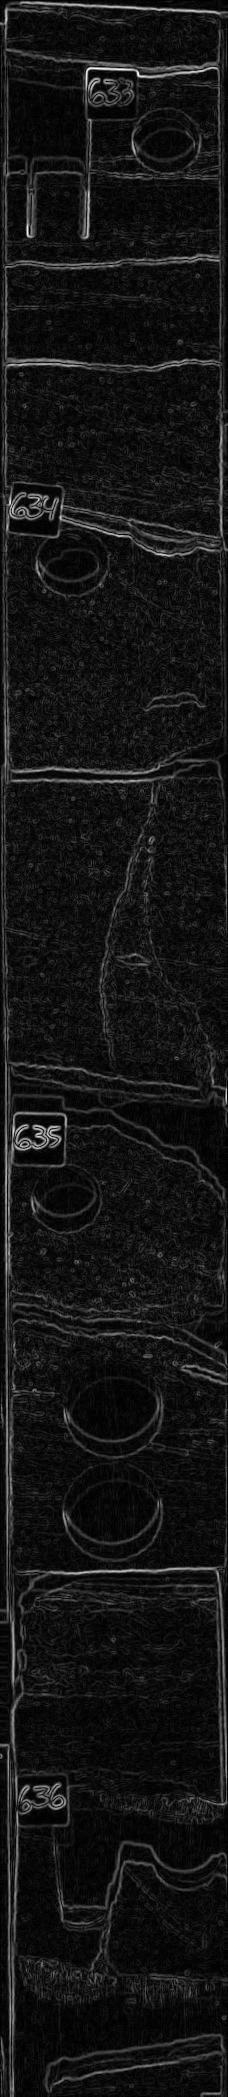hplug: (25, 1158, 113, 1236), (28, 526, 113, 595), (123, 106, 208, 173), (144, 1830, 224, 1888)
scal: (54, 1353, 168, 1458), (60, 1462, 161, 1562)
vplug: (127, 530, 215, 711), (21, 53, 102, 245), (52, 1791, 127, 1928)
